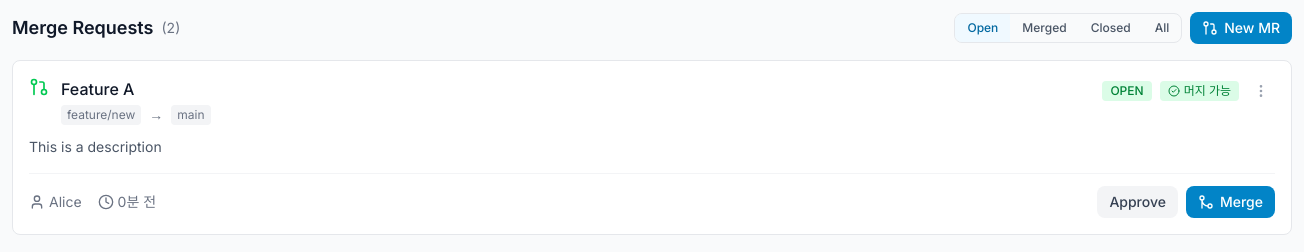
MergeRequestList › shows empty state when no MRs match filter
Click the button "Closed": {"x": 1111, "y": 28} [1079,14,1143,42]
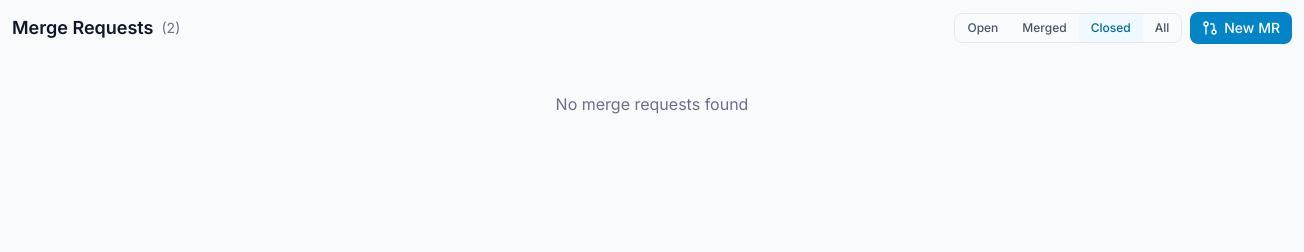
Result: the text "No merge requests found" is shown at [556,94,748,114]
